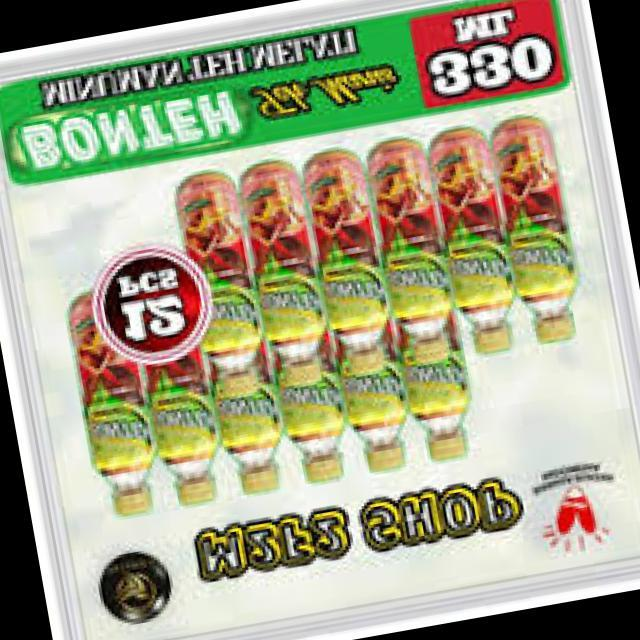good: (37, 286, 169, 536), (152, 168, 272, 414), (126, 270, 242, 524), (224, 151, 339, 393), (296, 146, 406, 378), (420, 124, 526, 364), (486, 108, 592, 345), (369, 136, 466, 364), (314, 270, 416, 486), (199, 294, 301, 506), (382, 278, 488, 474), (269, 293, 358, 490)
